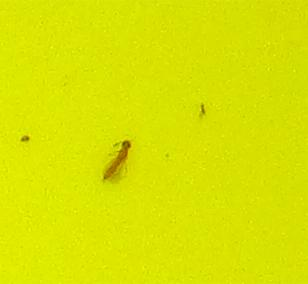Hymenoptera: (100, 137, 134, 184)
